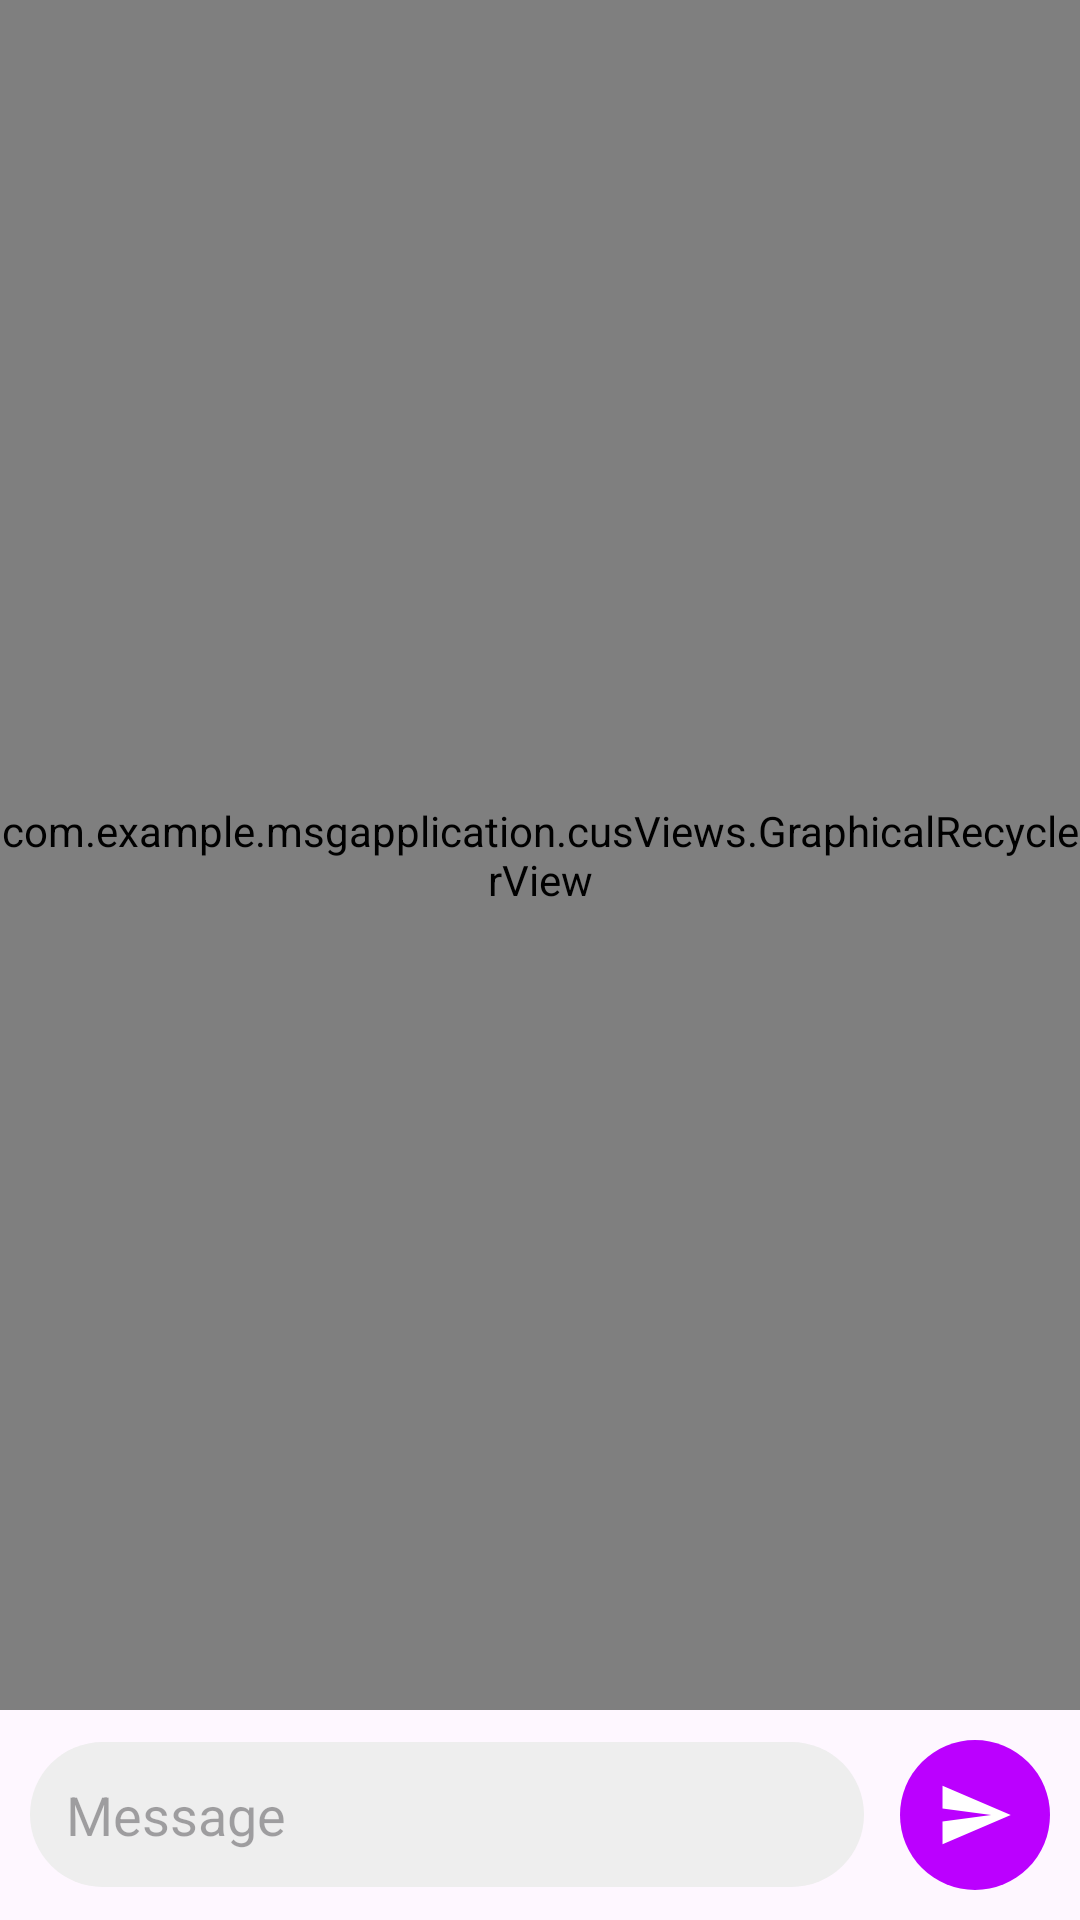

Icon bounding boxes for this 1080px×1920px phone screenshot, format (x1, y1, x2, y2):
send: (900, 1740, 1050, 1890)
